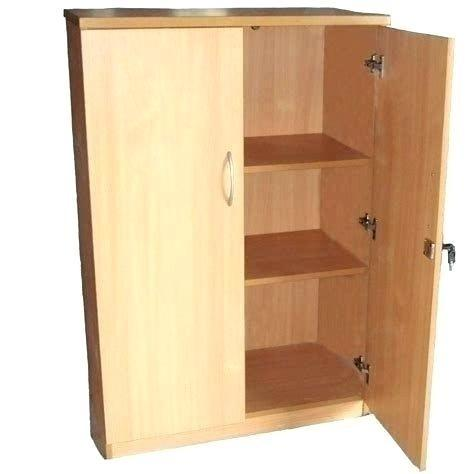cabinet_door: (96, 15, 245, 445), (376, 27, 439, 439)
handle: (223, 149, 237, 207), (443, 241, 456, 273)
